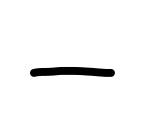minus: (30, 67, 115, 78)
